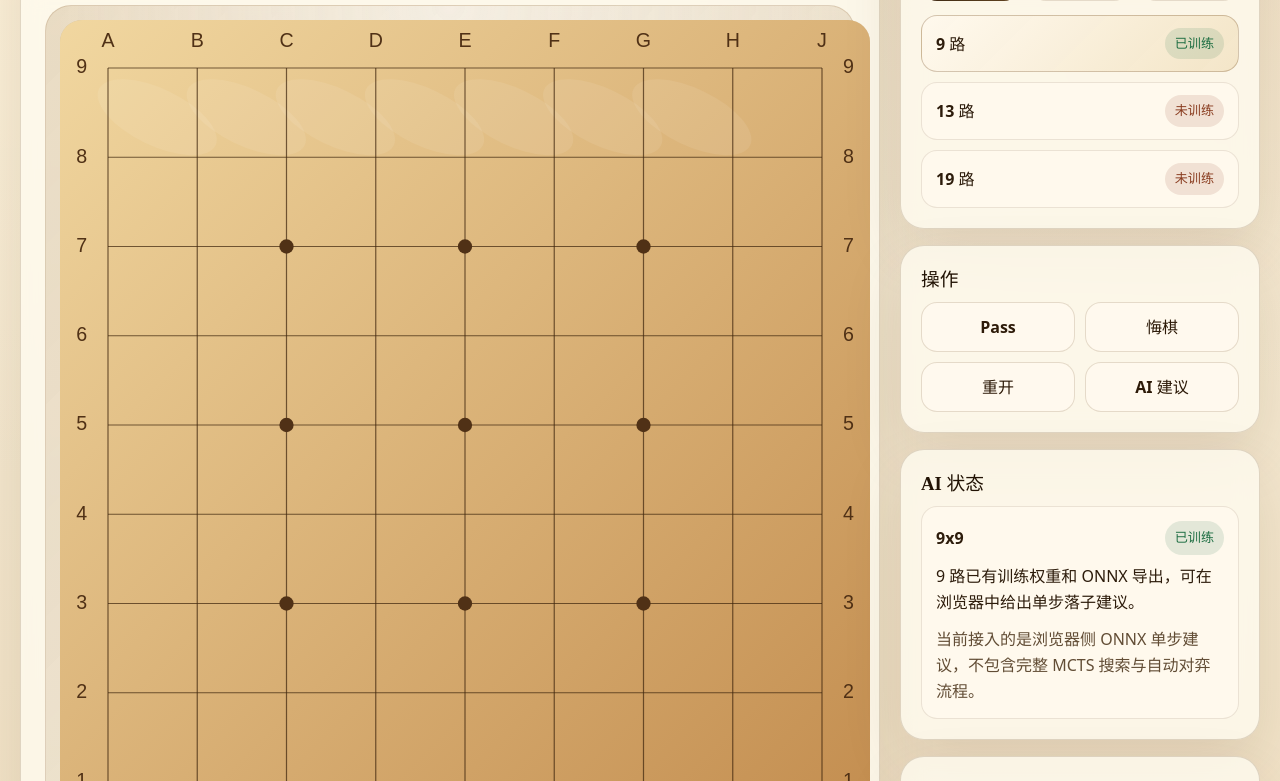
Scenario: AI request lifetime › rejects an unsupported input shape before inference
(page scrolled)
Click the button "AI 建议" at (1162,387), box [1085,362,1239,412]
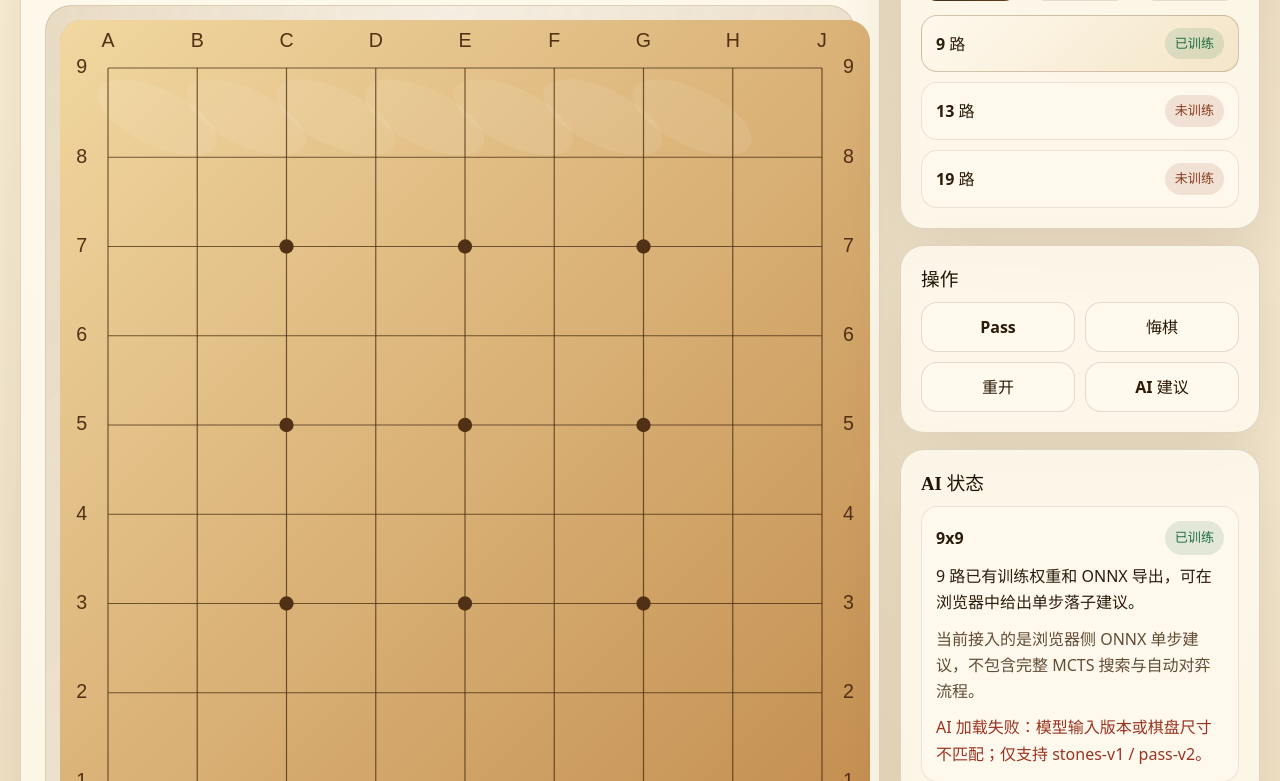
Result: the text with class "ai-error" shows "模型输入版本" at [936,716,1212,765]
